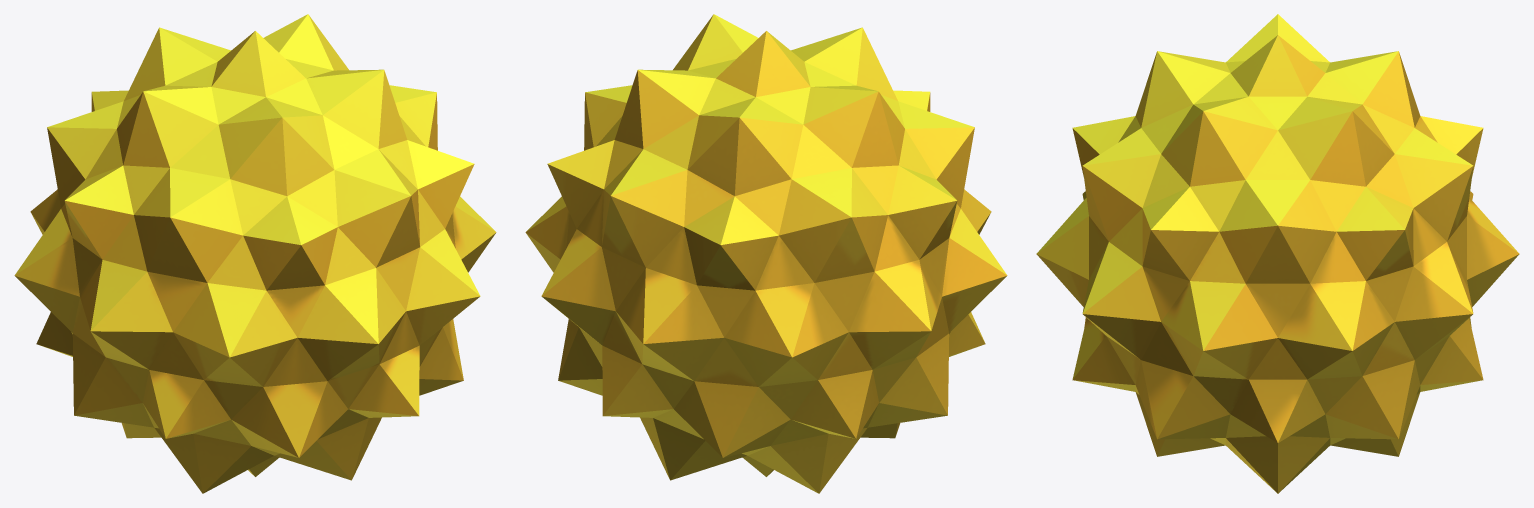
Rendered from PUSHILIN_sun.obj.
3 renders of one model, left to right at view 1: azimuth 30°, elevation 25°; view 2: azimuth 150°, elevation 25°; view 3: azimuth 270°, elevation 25°, orthographic.
Parts seen in each view (by area): view 1: sun; view 2: sun; view 3: sun.
Part boxes in pixels (<box>): sun: <box>14,14,496,493</box>; sun: <box>525,14,1007,493</box>; sun: <box>1036,14,1519,493</box>.
Size of the model in its own units: 1.23 by 1.29 by 1.29.
1 material, 1 textured.
